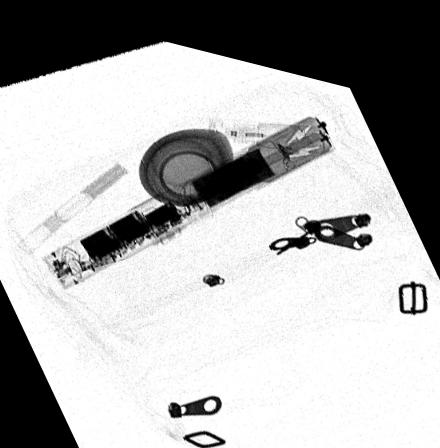Baton: (40, 99, 334, 287)
